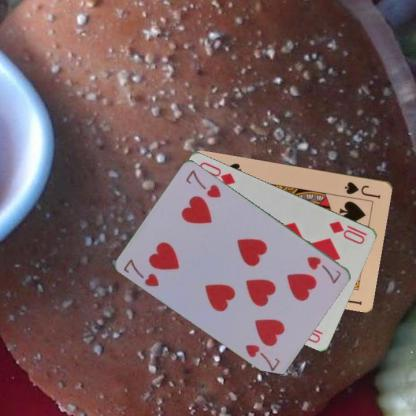10d: (326, 218, 368, 245)
7h: (305, 253, 343, 287), (121, 256, 160, 288)
Js: (342, 178, 382, 200)
